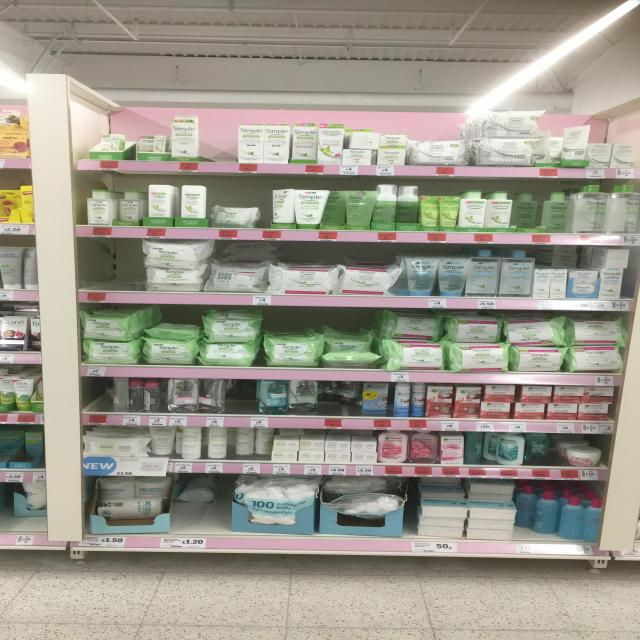empty: (175, 473, 230, 534), (79, 239, 141, 289), (201, 116, 236, 161), (83, 376, 112, 413), (229, 381, 255, 413)
